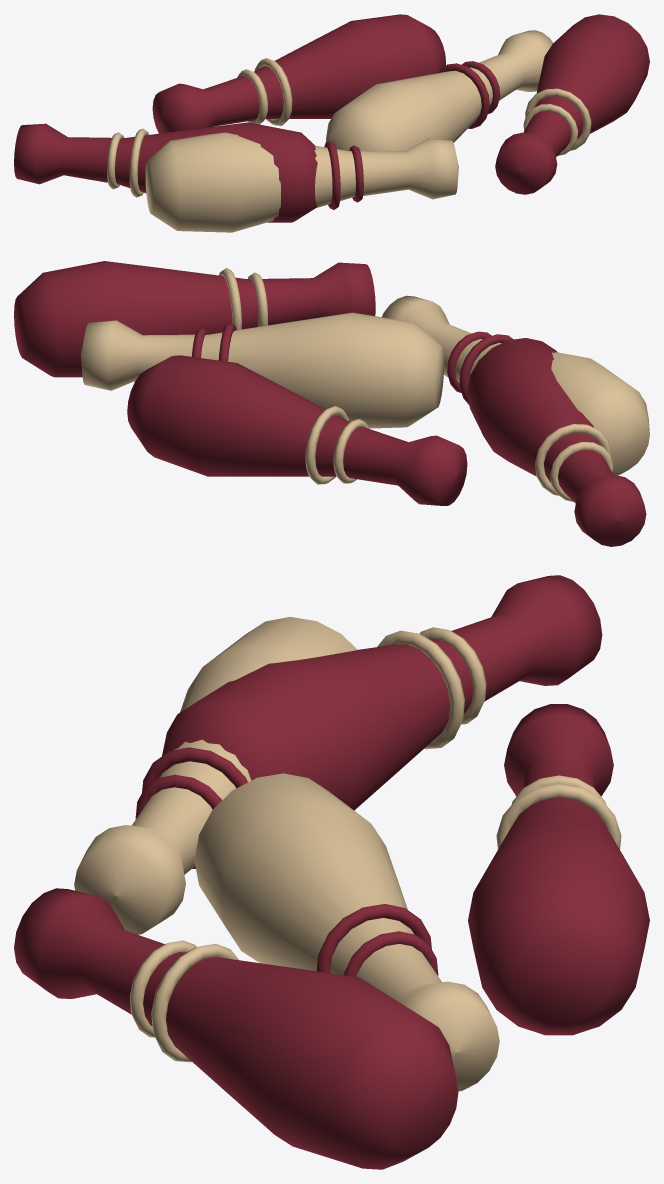
The model's file is mia-juggling_pins.glb.
The picture shows the model from 3 angles, top to bottom: view 1: azimuth 30°, elevation 25°; view 2: azimuth 150°, elevation 25°; view 3: azimuth 270°, elevation 25°; orthographic projection. The views are drawn at different scales.
Parts seen in each view (by area): view 1: Body_velvet, Body_ivory; view 2: Body_velvet, Body_ivory; view 3: Body_velvet, Body_ivory.
Boxes of the visible parts, x1,y1,x2,y2 form: Body_velvet: (14,14,649,222); Body_ivory: (107,30,591,232); Body_velvet: (14,261,646,546); Body_ivory: (81,268,649,501); Body_velvet: (14,575,649,1169); Body_ivory: (74,616,621,1091).
Bounding box in the file's own units: 0.7737 × 0.1142 × 0.4052.
